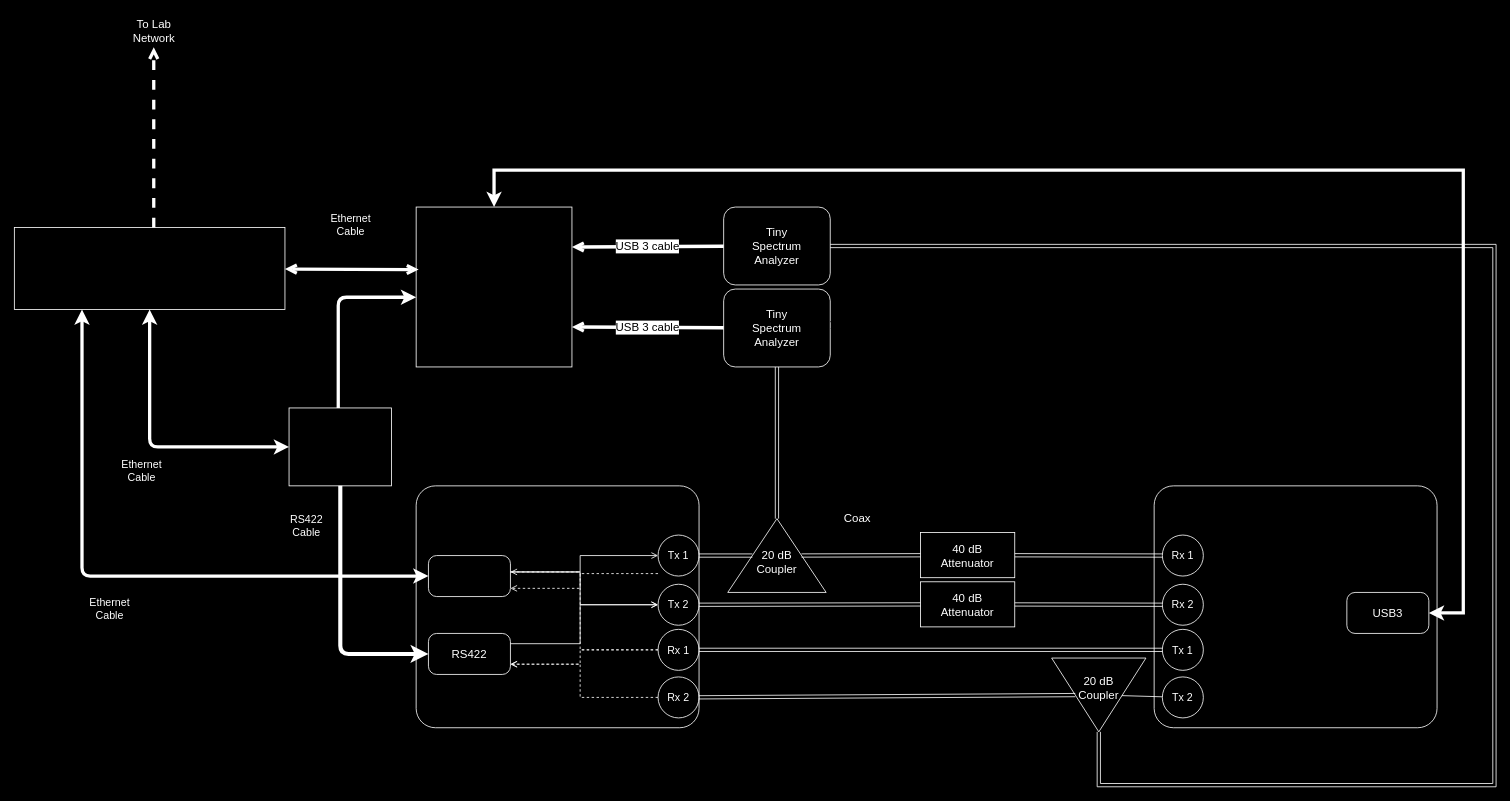
This 1510x801 diagram has some shape labels left out. Each missing label, with the box of its shape:
Ethernet Switch: (14, 227, 285, 310)
GigE: (428, 555, 510, 597)
Medium power Linux Computer: (415, 206, 572, 367)
S-band Transceiver: (415, 485, 699, 728)
USB to RS422 Adapter: (288, 407, 392, 486)
USRP B210: (1153, 485, 1437, 728)
